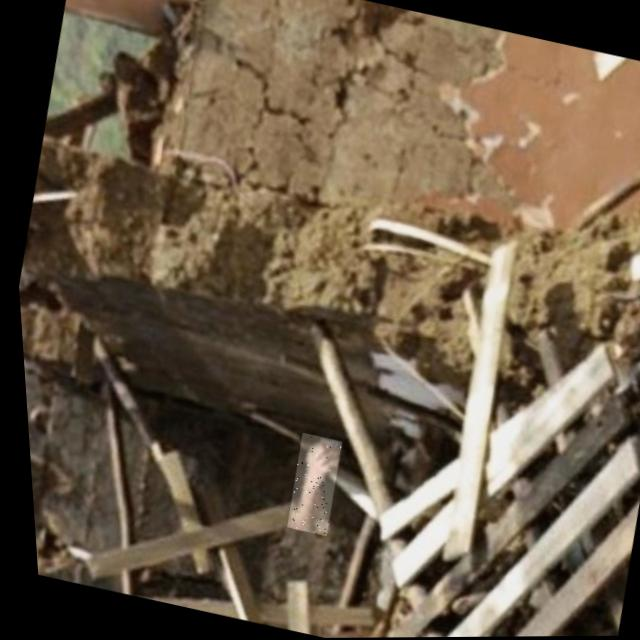Person in Rubble: (275, 432, 341, 536)
